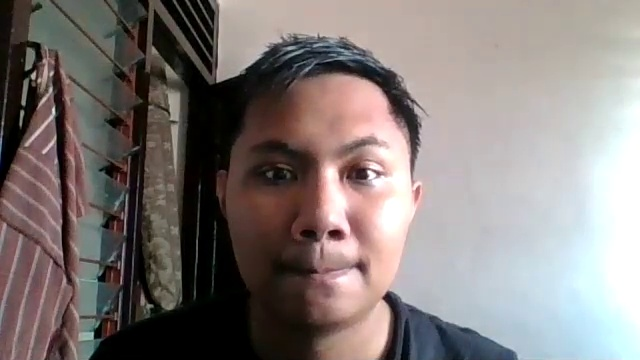Not Distracted: (213, 79, 427, 320)
